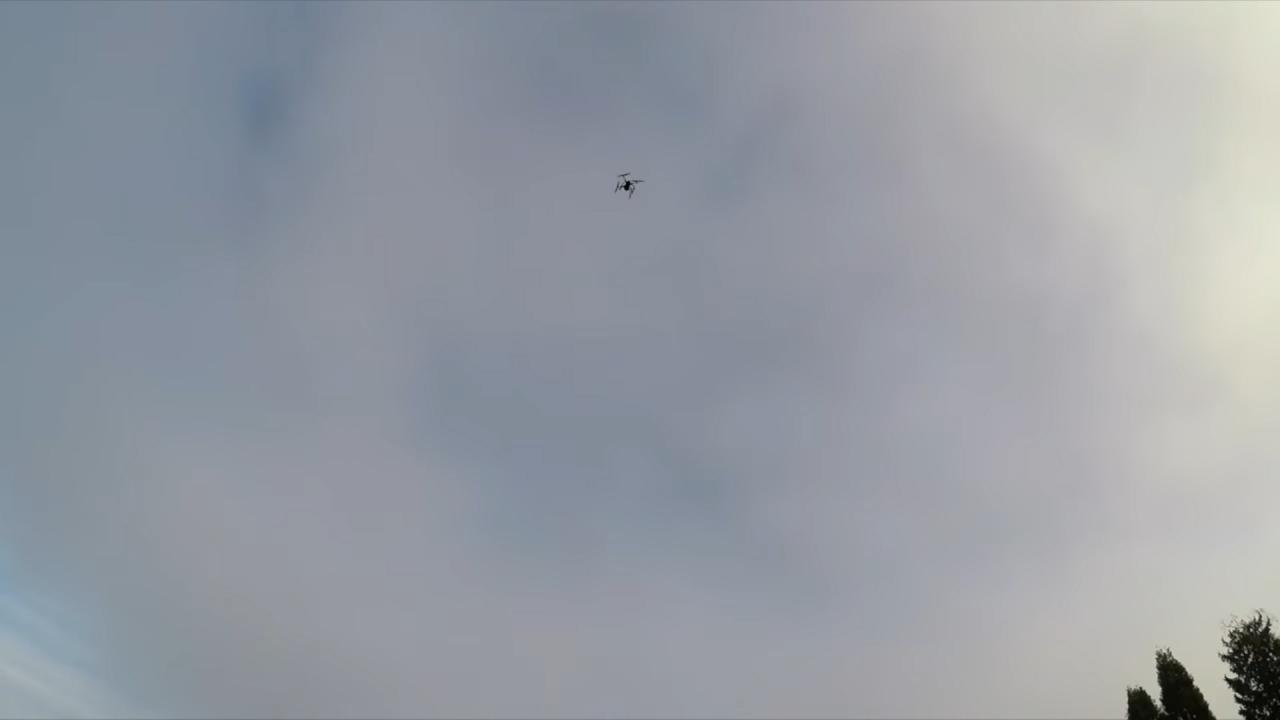Drone: (608, 165, 652, 207)
